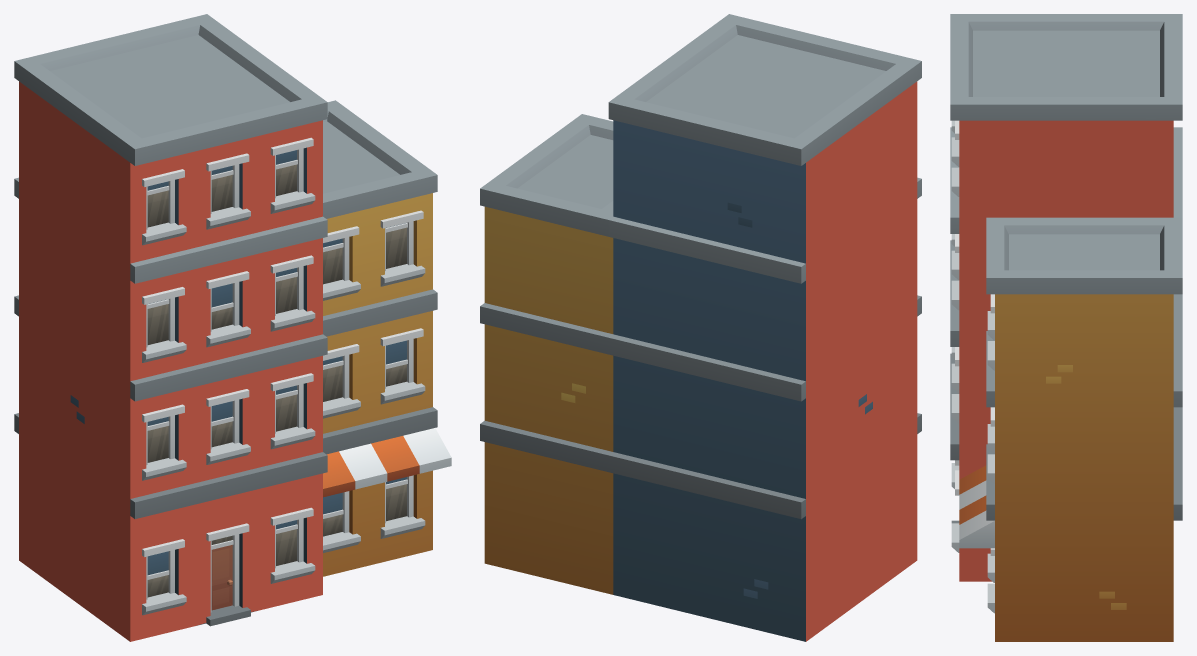
File: nha9.glb
The picture shows the model from 3 angles, left to right: view 1: azimuth 30°, elevation 25°; view 2: azimuth 150°, elevation 25°; view 3: azimuth 270°, elevation 25°; orthographic projection. The views are drawn at different scales.
Visible parts, largest first — view 1: building_H_withoutBase_Cube.946; view 2: building_H_withoutBase_Cube.946; view 3: building_H_withoutBase_Cube.946.
Part boxes in pixels (box(x1,y1,x2,y2)): building_H_withoutBase_Cube.946: box(14, 14, 451, 641); building_H_withoutBase_Cube.946: box(480, 14, 921, 641); building_H_withoutBase_Cube.946: box(950, 14, 1182, 641).
Size of the model in its own units: 2.01 by 2.95 by 1.3.
Materials: 2 (1 with a texture image).
